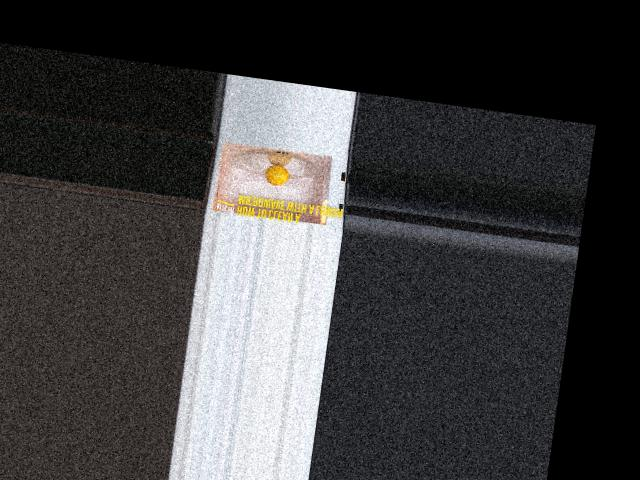lemon: (262, 159, 302, 191)
